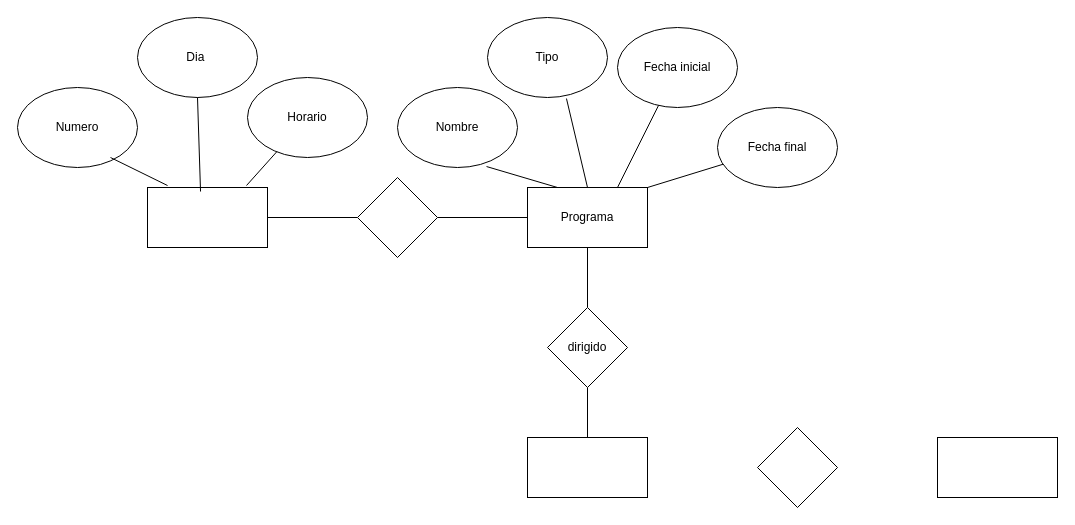
This 1075x525 diagram has some shape labels left out. Here are the shapes that lost their labels. From the top down, the box of each, then its label:
(146, 186, 268, 248): Capitulo
(356, 176, 438, 258): aparecen
(526, 436, 648, 498): Audiencia
(756, 426, 838, 508): se calisifica
(936, 436, 1058, 498): Televidentes
